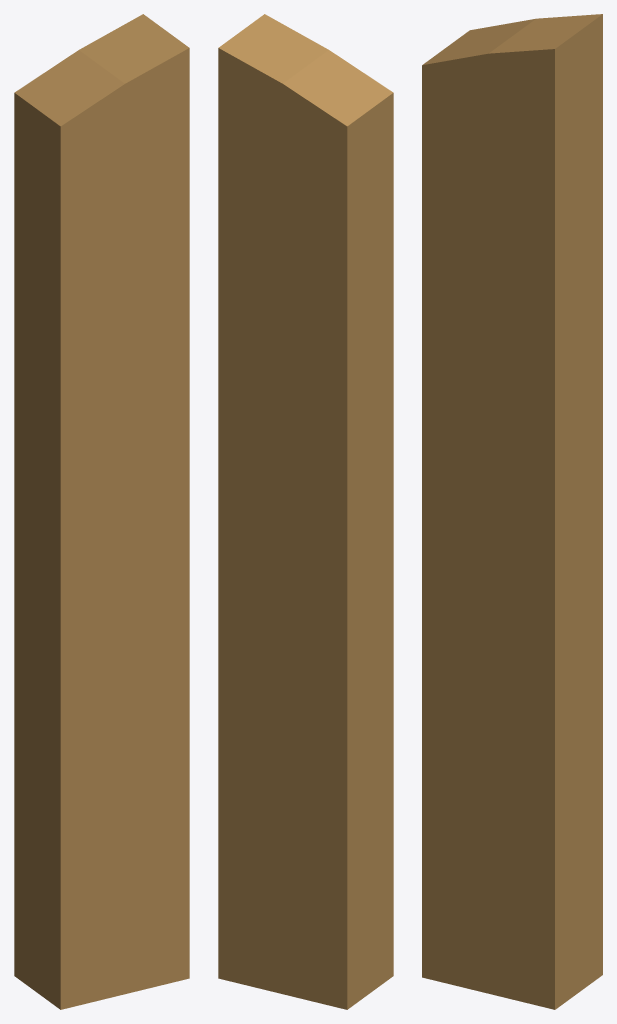
3 renders of one model, left to right at view 1: azimuth 30°, elevation 25°; view 2: azimuth 150°, elevation 25°; view 3: azimuth 330°, elevation 25°, orthographic. The views are drawn at different scales.
Parts seen in each view (by area): view 1: L4-6-S4-3E2-M06; view 2: L4-6-S4-3E2-M06; view 3: L4-6-S4-3E2-M06.
Part boxes in pixels (x1,y1,x2,y2): L4-6-S4-3E2-M06: [14, 14, 189, 1009]; L4-6-S4-3E2-M06: [218, 14, 393, 1009]; L4-6-S4-3E2-M06: [422, 14, 602, 1009].
Bounding box in the file's own units: 0.0723 × 0.4992 × 0.045.
